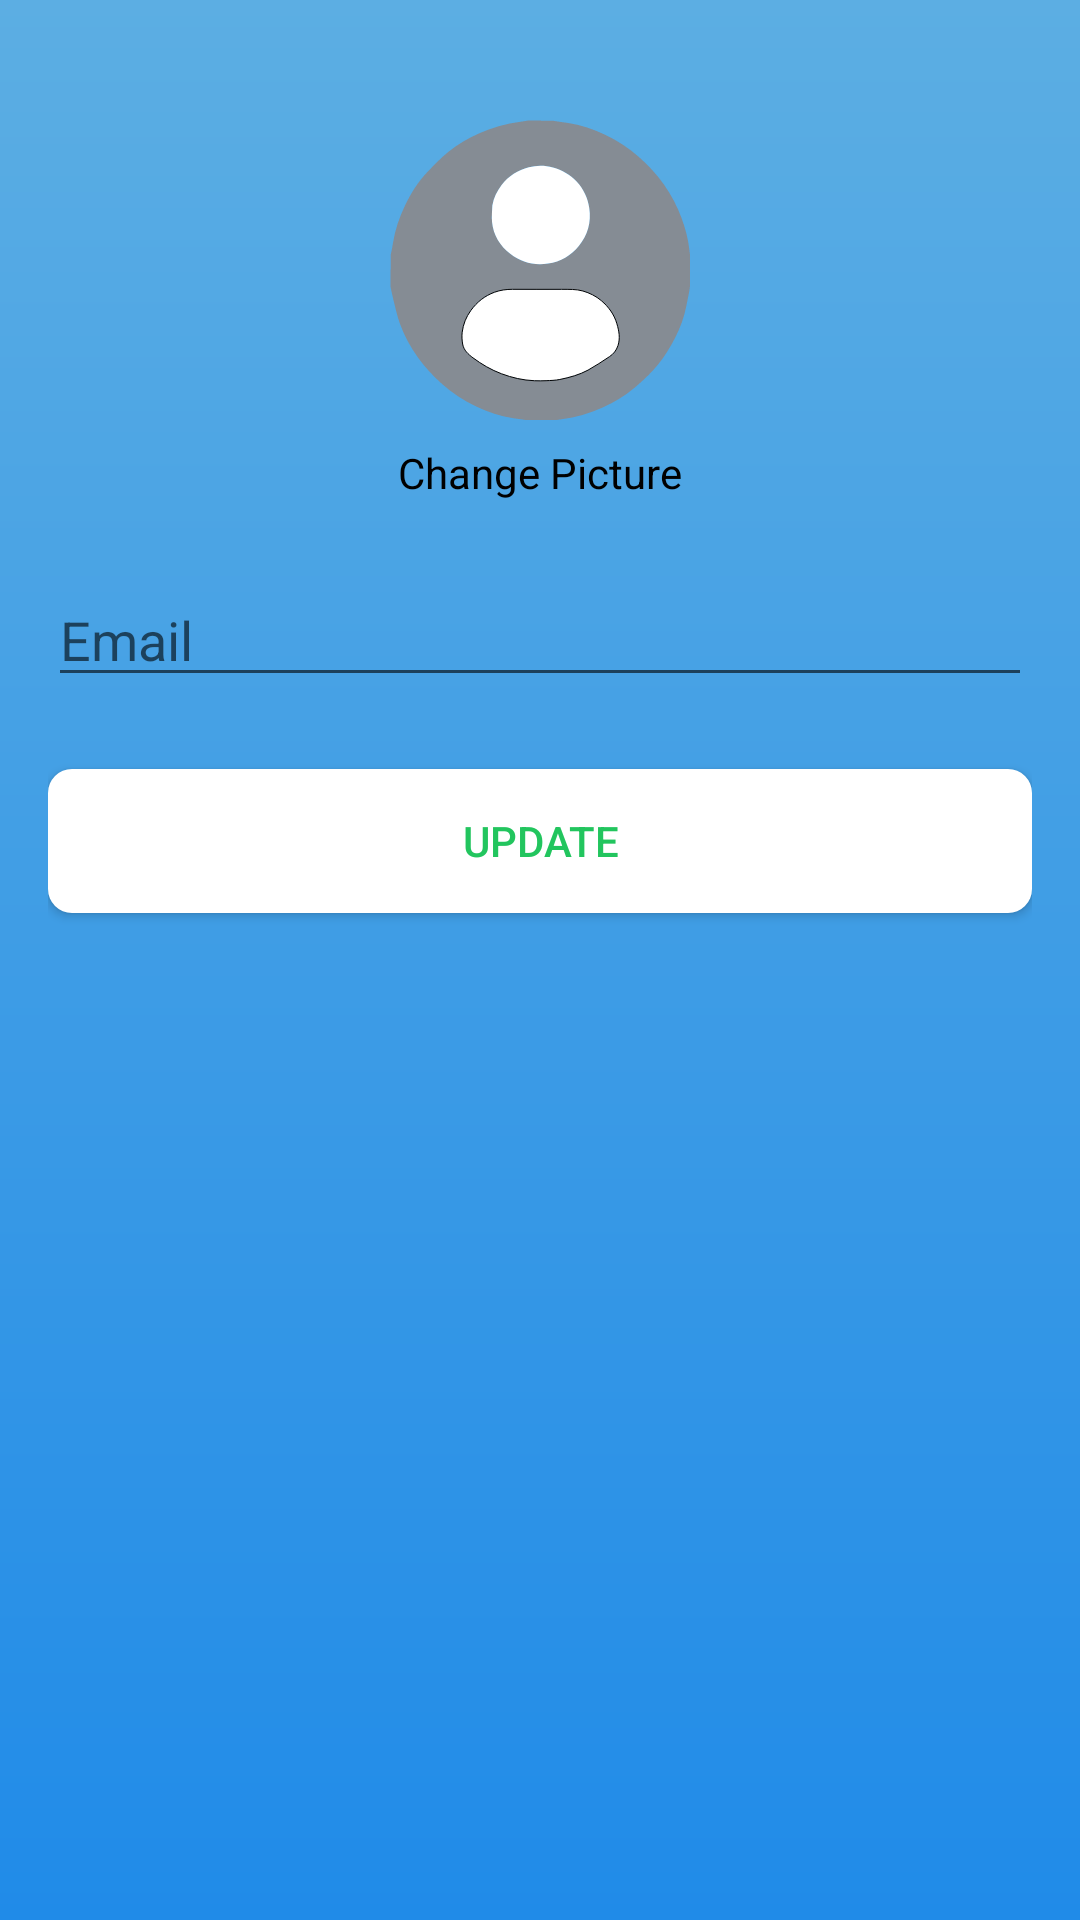

Named icons in this screenshot (1080 x 1920) and their centers, [x,y]:
profile user: [540,270]
